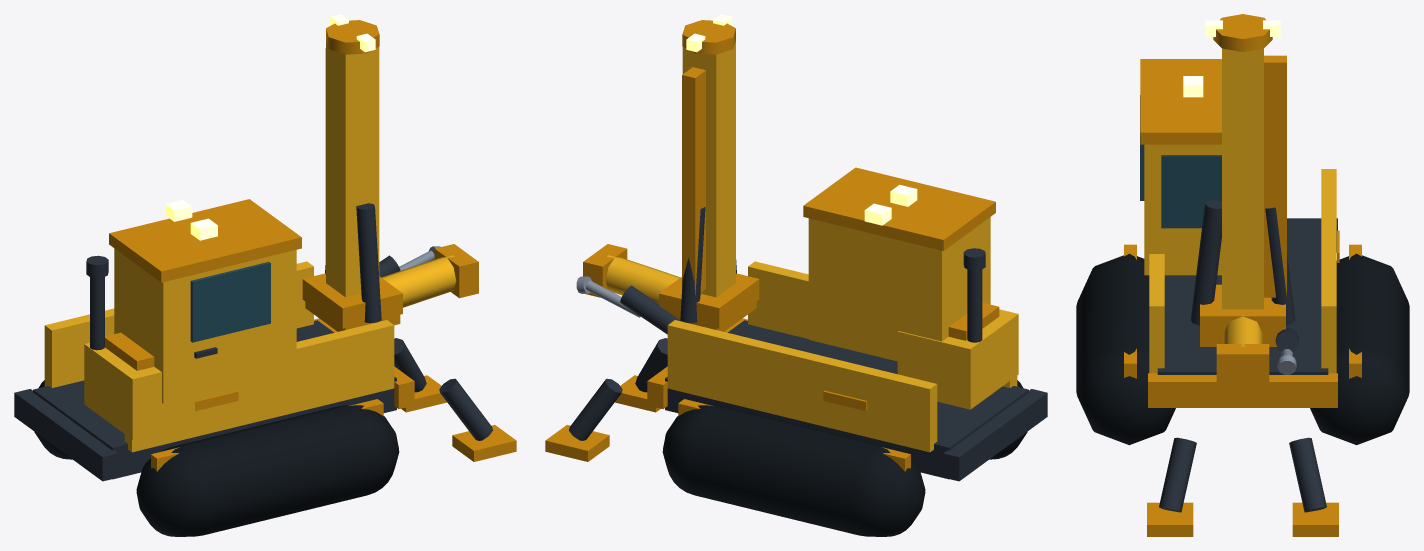
The model's file is asset.glb.
3 views of the same model, side by side, from view 1: azimuth 30°, elevation 25°; view 2: azimuth 150°, elevation 25°; view 3: azimuth 270°, elevation 25° (orthographic). The views are drawn at different scales.
Parts seen in each view (by area): view 1: Right_Crawler, Cab_Body, Yellow_Side_Body, Vertical_Drill_Mast, Cab_Roof, Engine_Housing, Main_Chassis, Left_Windshield, Yellow_Side_Body_Other, Rear_Bumper, Drill_Mast_Base, Mast_Brace_Right (+12 smaller); view 2: Left_Crawler, Yellow_Side_Body_Other, Cab_Body, Cab_Roof, Vertical_Drill_Mast, Engine_Housing, Main_Chassis, Mast_Dark_Inset, Rear_Bumper, Yellow_Side_Body, Drill_Mast_Base, Main_Drill_Boom (+13 smaller); view 3: Left_Crawler, Right_Crawler, Vertical_Drill_Mast, Main_Chassis, Cab_Roof, Front_Bumper, Mast_Dark_Inset, Cab_Body, Front_Windshield, Yellow_Side_Body_Other, Boom_End_Cap, Mast_Brace_Right (+13 smaller).
Boxes of the visible parts, left/top/right/bottom form: Right_Crawler: left=136, top=405, right=399, bottom=536; Cab_Body: left=114, top=248, right=296, bottom=403; Yellow_Side_Body: left=124, top=320, right=394, bottom=452; Vertical_Drill_Mast: left=326, top=41, right=379, bottom=297; Cab_Roof: left=109, top=199, right=301, bottom=282; Engine_Housing: left=84, top=342, right=205, bottom=439; Main_Chassis: left=33, top=320, right=396, bottom=479; Left_Windshield: left=190, top=262, right=270, bottom=342; Yellow_Side_Body_Other: left=44, top=261, right=313, bottom=387; Rear_Bumper: left=14, top=389, right=118, bottom=481; Drill_Mast_Base: left=302, top=273, right=402, bottom=328; Mast_Brace_Right: left=356, top=203, right=381, bottom=323; Left_Crawler: left=662, top=405, right=925, bottom=536; Yellow_Side_Body_Other: left=667, top=320, right=937, bottom=452; Cab_Body: left=808, top=217, right=990, bottom=361; Cab_Roof: left=803, top=167, right=995, bottom=250; Vertical_Drill_Mast: left=682, top=41, right=735, bottom=297; Engine_Housing: left=897, top=309, right=1018, bottom=409; Main_Chassis: left=665, top=320, right=1028, bottom=479; Mast_Dark_Inset: left=682, top=67, right=705, bottom=295; Rear_Bumper: left=943, top=389, right=1047, bottom=481; Yellow_Side_Body: left=748, top=261, right=1017, bottom=387; Drill_Mast_Base: left=659, top=273, right=759, bottom=328; Main_Drill_Boom: left=605, top=255, right=680, bottom=303; Left_Crawler: left=1310, top=253, right=1409, bottom=445; Right_Crawler: left=1076, top=253, right=1175, bottom=445; Vertical_Drill_Mast: left=1222, top=48, right=1263, bottom=309; Main_Chassis: left=1157, top=222, right=1328, bottom=374; Cab_Roof: left=1140, top=59, right=1221, bottom=144; Front_Bumper: left=1148, top=373, right=1337, bottom=407; Mast_Dark_Inset: left=1264, top=55, right=1286, bottom=297; Cab_Body: left=1144, top=144, right=1221, bottom=275; Front_Windshield: left=1161, top=155, right=1221, bottom=228; Yellow_Side_Body_Other: left=1321, top=169, right=1336, bottom=373; Boom_End_Cap: left=1216, top=344, right=1269, bottom=388; Mast_Brace_Right: left=1190, top=200, right=1221, bottom=325.
Bounding box in the file's own units: 4.65 × 4.51 × 3.02.
